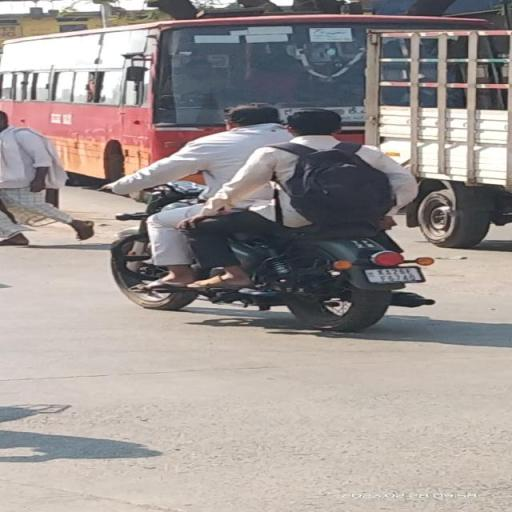bike: (105, 100, 449, 334)
numberplate: (365, 263, 423, 285)
withouthelmet: (289, 109, 343, 135), (228, 104, 276, 125)
